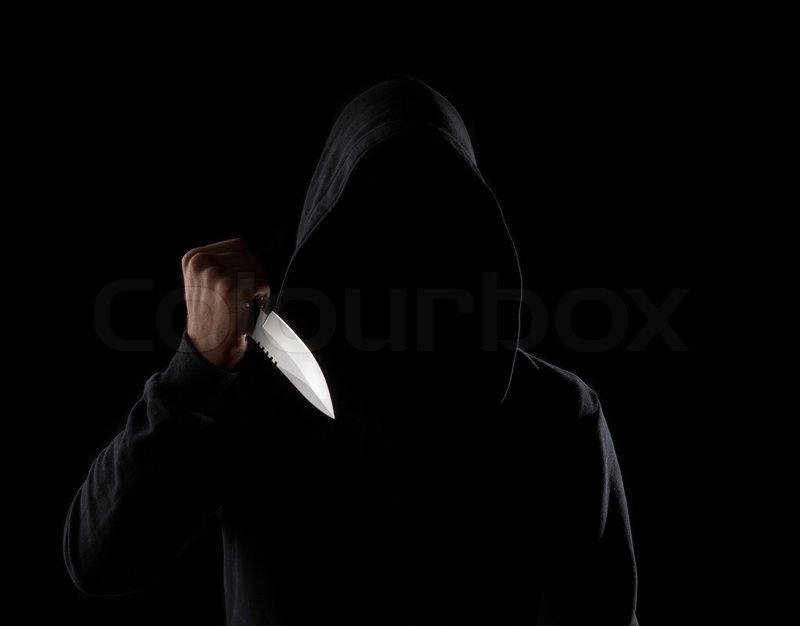knife: (183, 233, 340, 429)
